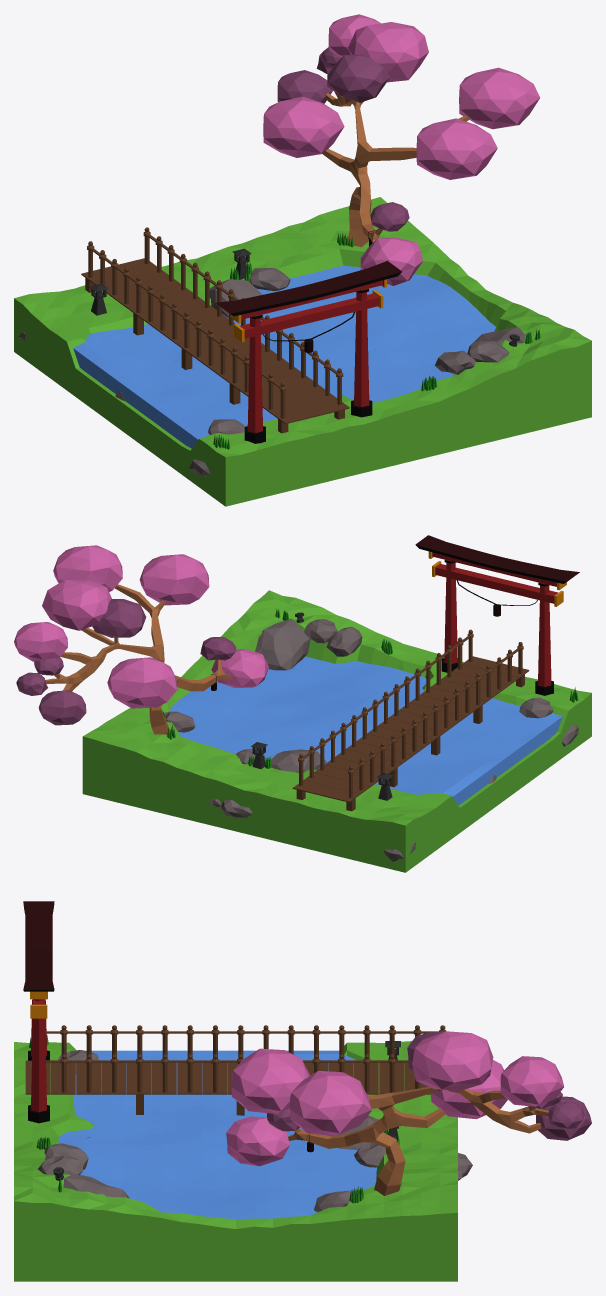
The model's file is garden.obj.
3 views of the same model, one above another, from view 1: azimuth 30°, elevation 25°; view 2: azimuth 150°, elevation 25°; view 3: azimuth 270°, elevation 25° (orthographic). The views are drawn at different scales.
Parts seen in each view (by area): view 1: base_Plane, water_Cube.001, bridge_Sphere, Icosphere.001, Icosphere.009, Icosphere.005, tree_Plane.001, Icosphere, Plane.002_Plane.005, Icosphere.006, Plane_Plane.002, Icosphere.002 (+10 smaller); view 2: base_Plane, water_Cube.001, bridge_Sphere, tree_Plane.001, Icosphere.009, Icosphere.001, Icosphere, Icosphere.005, Plane.002_Plane.005, Icosphere.010_Icosphere.011, Icosphere.007, Plane_Plane.002 (+14 smaller); view 3: base_Plane, water_Cube.001, bridge_Sphere, tree_Plane.001, Icosphere.005, Icosphere, Icosphere.001, Plane.002_Plane.005, Icosphere.007, Icosphere.002, Cylinder.001_Cylinder, Icosphere.009 (+7 smaller).
Boxes of the visible parts, <box> form: base_Plane: <box>14,197,591,506</box>; water_Cube.001: <box>73,265,495,448</box>; bridge_Sphere: <box>81,227,349,423</box>; Icosphere.001: <box>416,118,497,179</box>; Icosphere.009: <box>263,96,344,157</box>; Icosphere.005: <box>459,67,540,129</box>; tree_Plane.001: <box>322,91,469,247</box>; Icosphere: <box>348,22,428,82</box>; Plane.002_Plane.005: <box>215,261,402,316</box>; Icosphere.006: <box>327,54,389,102</box>; Plane_Plane.002: <box>234,290,383,342</box>; Icosphere.002: <box>360,237,423,285</box>; base_Plane: <box>82,590,591,872</box>; water_Cube.001: <box>169,656,562,805</box>; bridge_Sphere: <box>292,629,529,802</box>; tree_Plane.001: <box>45,584,231,734</box>; Icosphere.009: <box>107,657,176,708</box>; Icosphere.001: <box>139,554,209,605</box>; Icosphere: <box>42,580,111,630</box>; Icosphere.005: <box>53,545,122,591</box>; Plane.002_Plane.005: <box>415,535,579,583</box>; Icosphere.010_Icosphere.011: <box>255,618,310,670</box>; Icosphere.007: <box>14,622,67,661</box>; Plane_Plane.002: <box>432,561,563,606</box>; base_Plane: <box>14,1041,457,1281</box>; water_Cube.001: <box>58,1050,376,1219</box>; bridge_Sphere: <box>25,1025,446,1094</box>; tree_Plane.001: <box>288,1087,548,1195</box>; Icosphere.005: <box>290,1070,371,1136</box>; Icosphere: <box>412,1031,493,1091</box>; Icosphere.001: <box>231,1048,310,1113</box>; Plane.002_Plane.005: <box>23,901,54,991</box>; Icosphere.007: <box>500,1056,563,1106</box>; Icosphere.002: <box>226,1116,289,1166</box>; Cylinder.001_Cylinder: <box>28,999,49,1123</box>; Icosphere.009: <box>431,1060,507,1119</box>.
Bounding box in the file's own units: 10.06 × 4.9 × 10.41.
